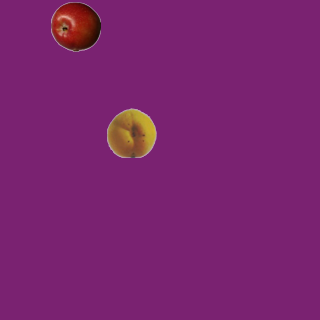Apple Braeburn: (50, 1, 100, 51)
Peach 2: (106, 107, 156, 157)
